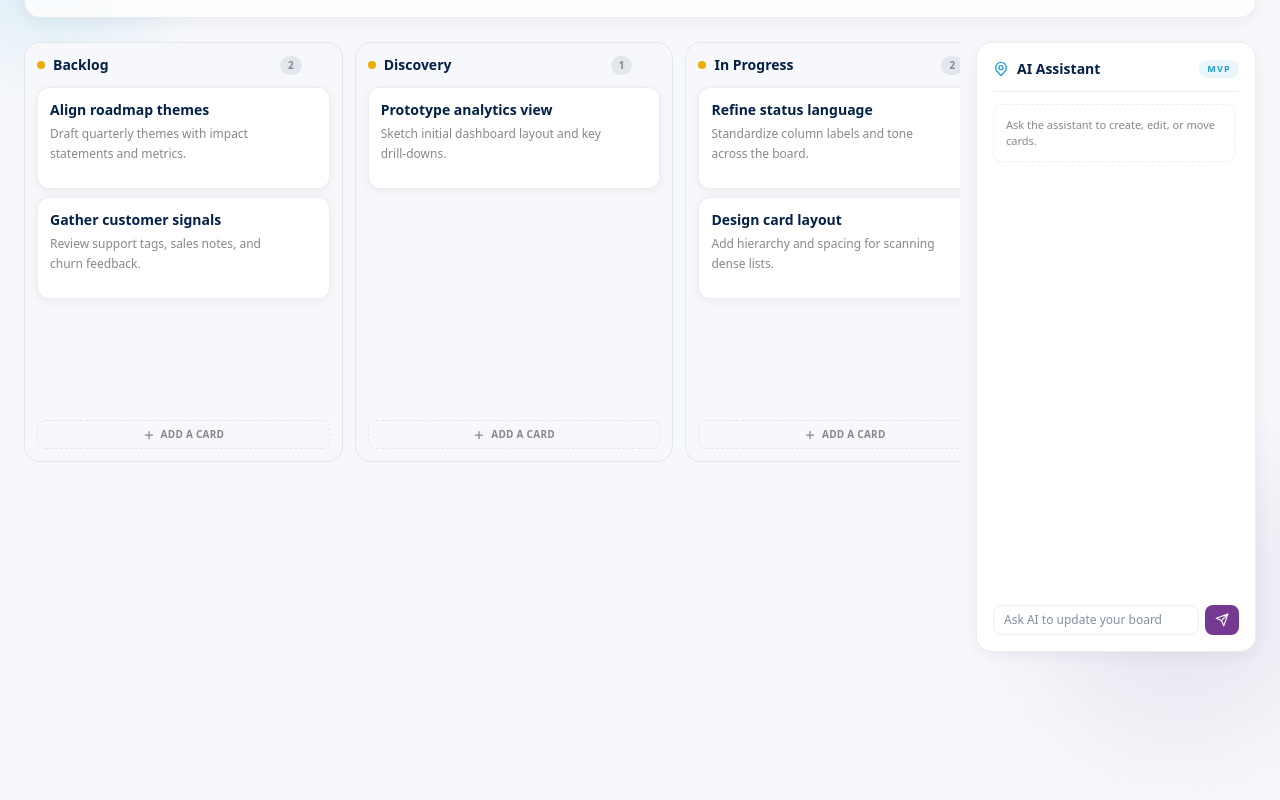
Scenario: KanbanBoard › shows error when chat message fails
(page scrolled)
Expected: the element with test id "column-col-backlog" is shown, [24,42,343,462]
Type "hello" into the field named "ai message" at (1096, 620), box [993,605,1199,635]
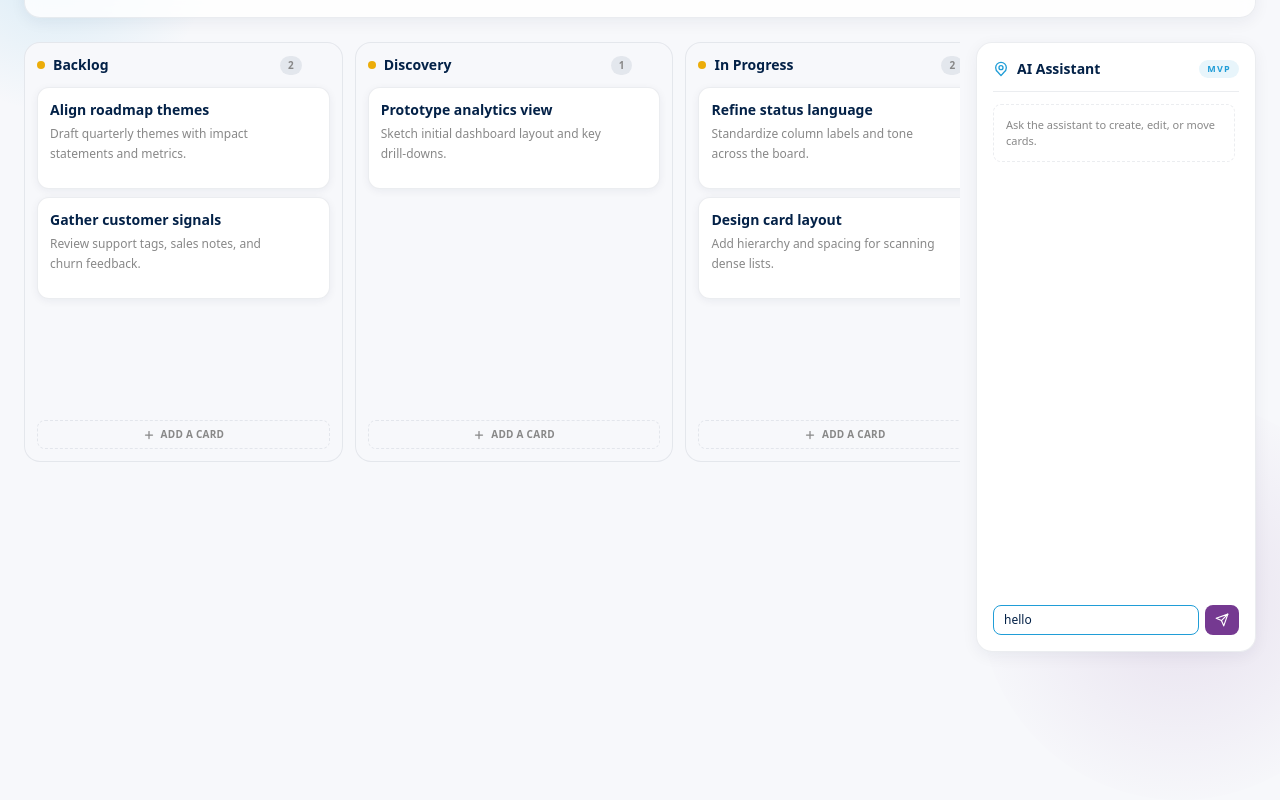
Click the button named "send" at (1222, 620), box [1205,605,1239,635]
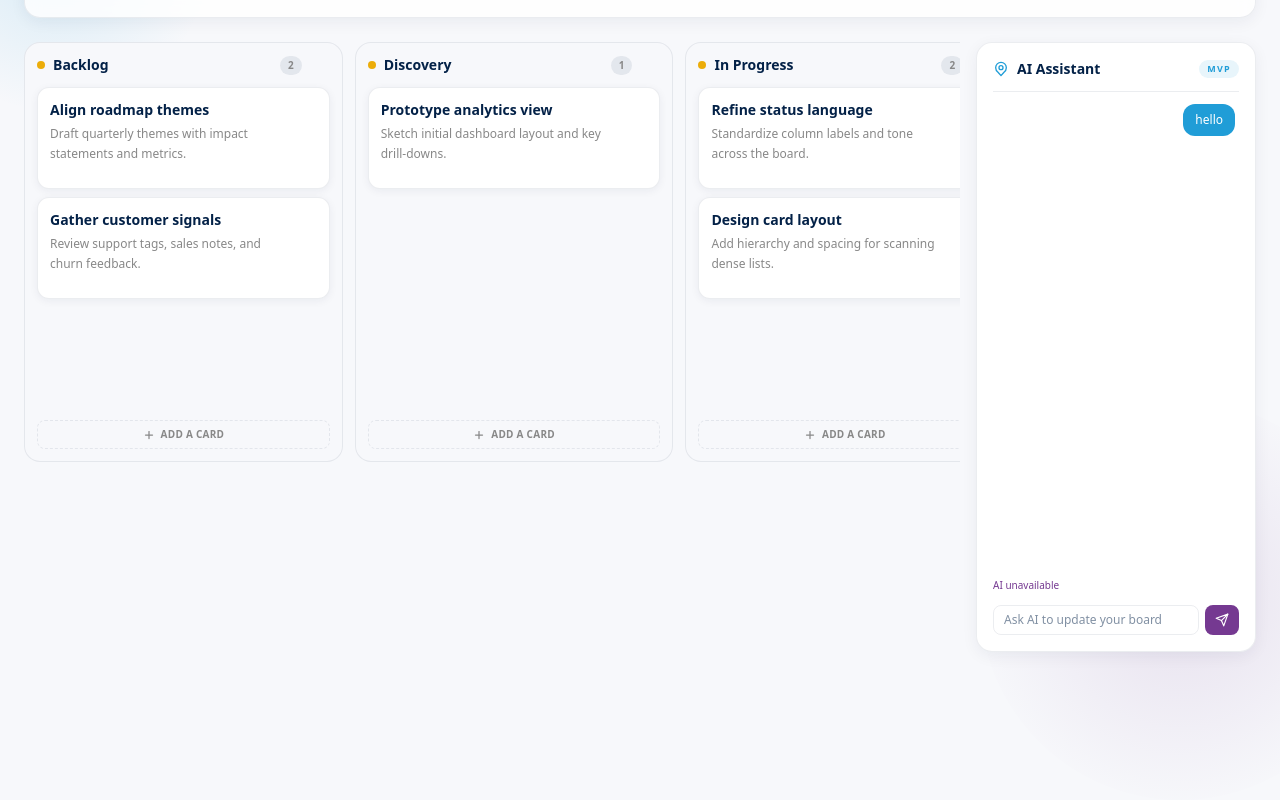
Now the text "AI unavailable" is shown, box [993,578,1059,592]
